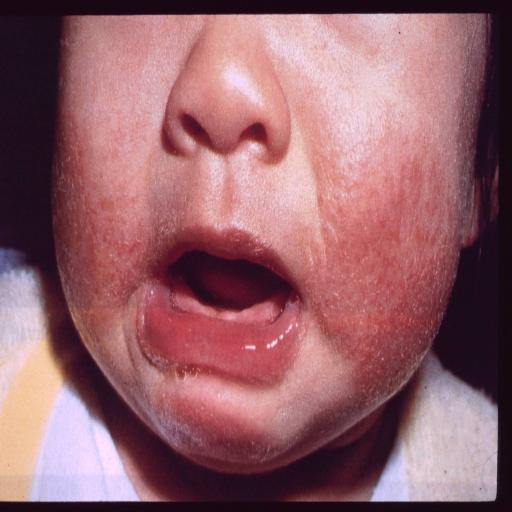Skin_Lesion: (166, 402, 258, 458), (362, 267, 404, 338), (101, 197, 138, 265), (60, 178, 78, 244), (368, 104, 398, 142), (396, 158, 422, 200), (426, 278, 438, 332), (175, 362, 199, 384), (327, 207, 345, 233)
